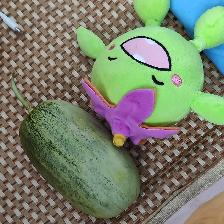gua: (19, 111, 123, 202)
